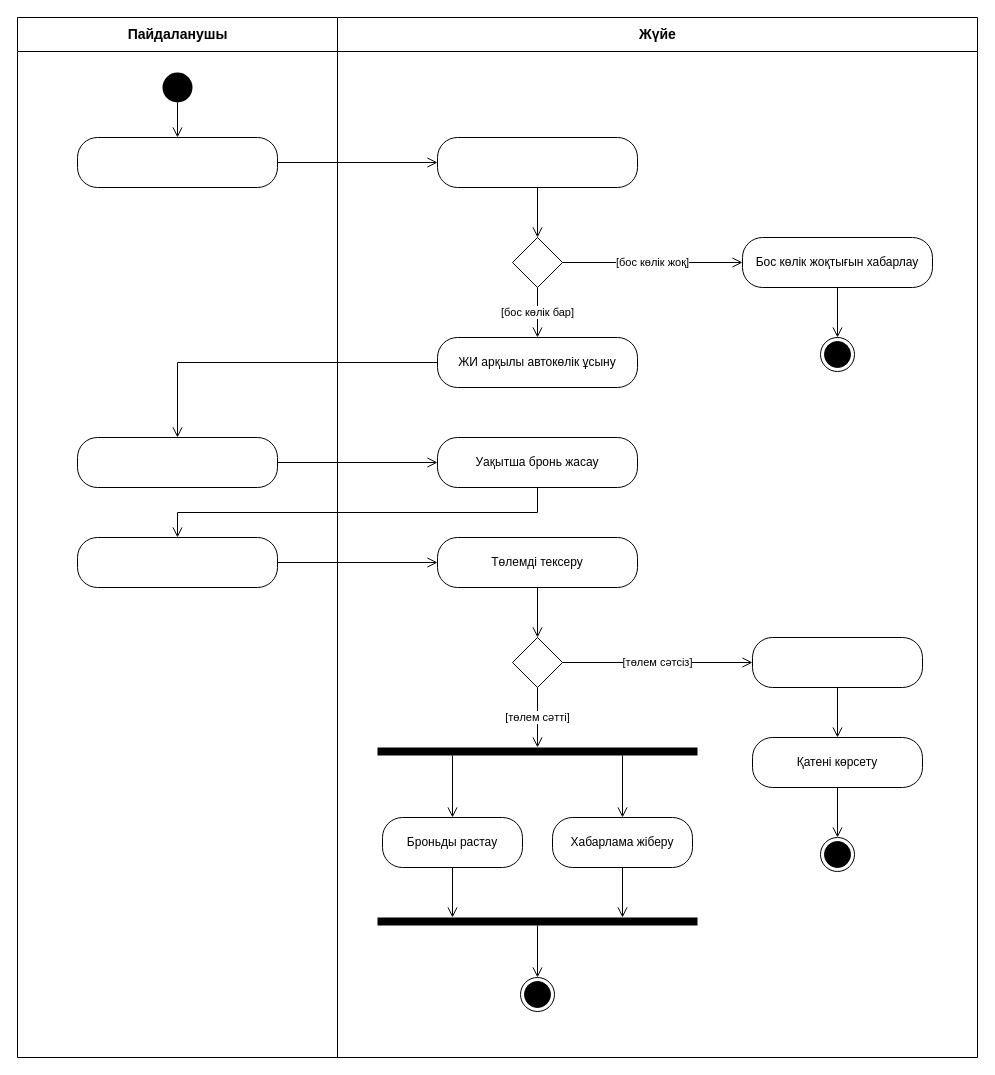
This 995x1075 diagram has some shape labels left out. The shapes that lost their labels are listed below. From the top down, each one's box as (x1, y1, x2, y2) in pixels, then its label:
(76, 136, 278, 188): Орын мен уақытты енгізу
(436, 136, 638, 188): Бос автокөліктерді іздеу
(76, 436, 278, 488): Автокөлікті таңдау
(76, 536, 278, 588): Төлем жасау
(752, 636, 922, 688): Броньды тоқтату
